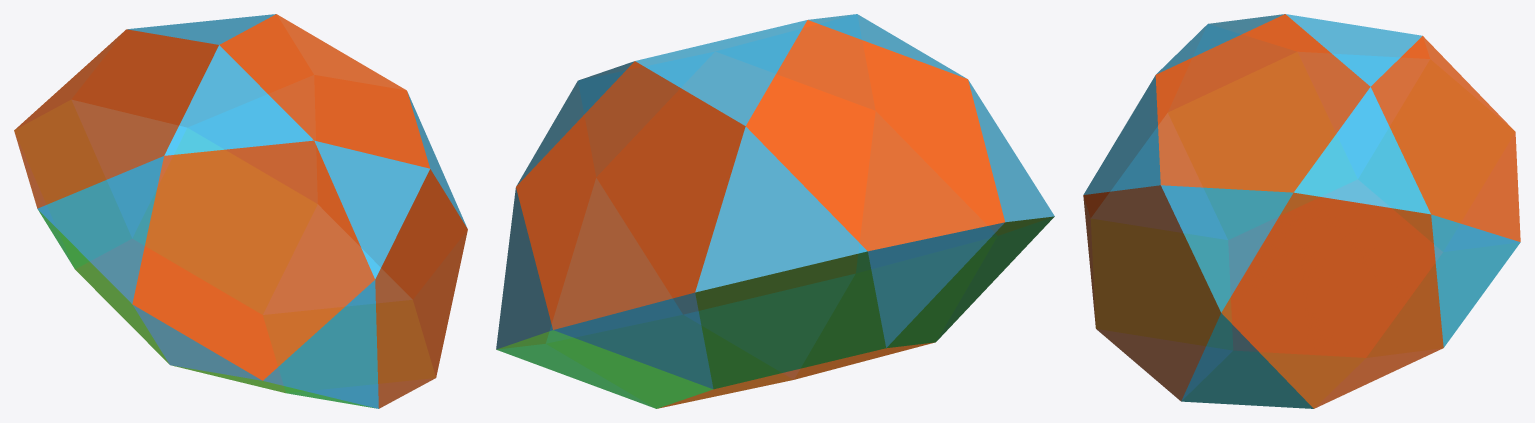
File: j32_pentagonal_orthocupolarontunda.obj
The picture shows the model from 3 angles, left to right: view 1: azimuth 30°, elevation 25°; view 2: azimuth 150°, elevation 25°; view 3: azimuth 270°, elevation 25°; orthographic projection. The views are drawn at different scales.
Bounding box in the file's own units: 2.01 × 1.66 × 2.07.
